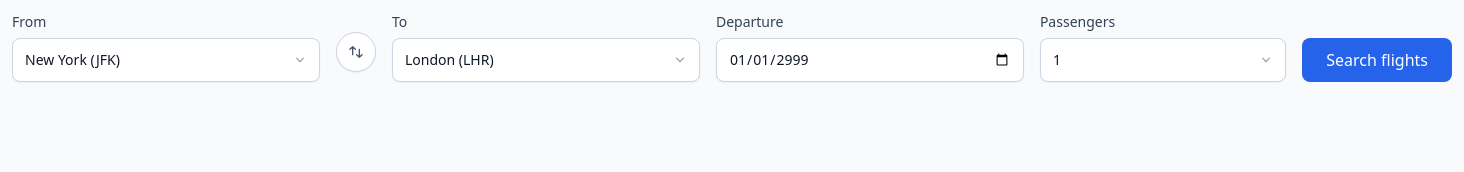
SearchForm › swaps origin and destination
The width and height of the screenshot is (1464, 172).
Click the button named "swap origin and destination" at (356, 52), box 336,32 -> 376,72
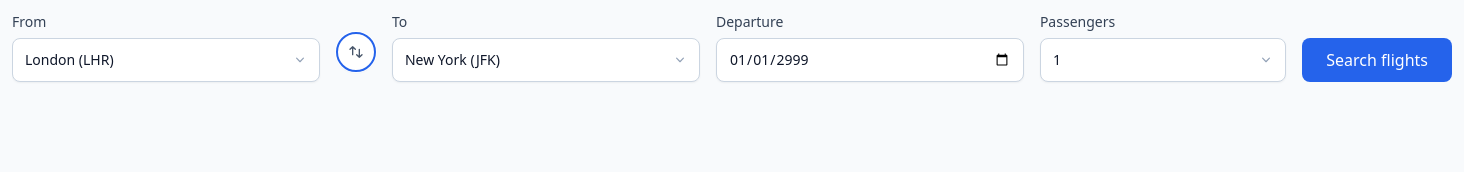
Expected: the dropdown labelled "From" shows "London (LHR)", 12,38 -> 320,82
Expected: the dropdown labelled "To" shows "New York (JFK)", 392,38 -> 700,82
